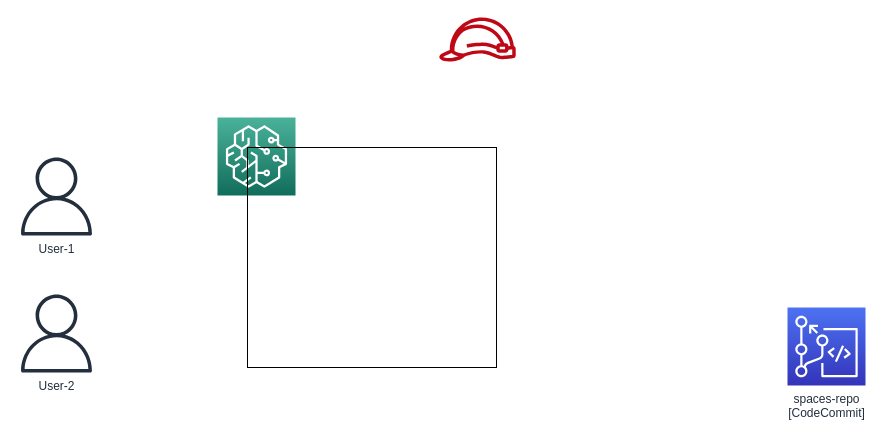
This 883x438 diagram has some shape labels left out. The centre of each missing label's shape, as x and y in pixels:
RepoRole [IAM Role]: point (477, 39)
SageMaker Studio: point (256, 156)
